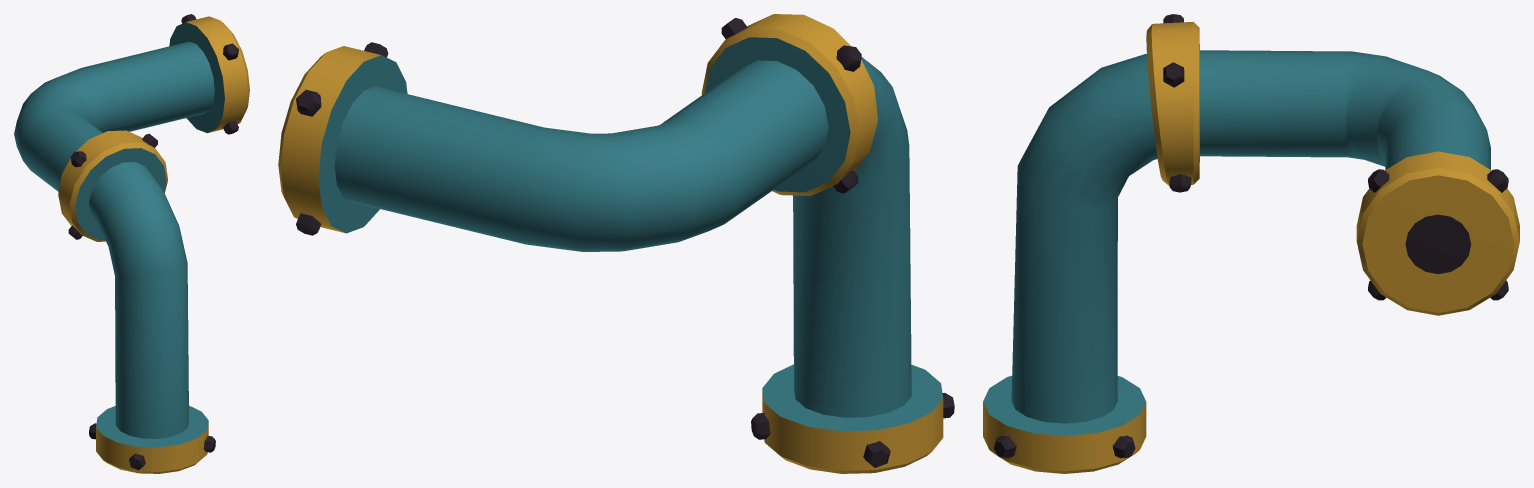
File: PipeRun_11.glb
3 renders of one model, left to right at view 1: azimuth 30°, elevation 25°; view 2: azimuth 150°, elevation 25°; view 3: azimuth 270°, elevation 25°, orthographic. The views are drawn at different scales.
Visible parts, largest first — view 1: PipeRun_11; view 2: PipeRun_11; view 3: PipeRun_11.
Part boxes in pixels (x1,y1,x2,y2): PipeRun_11: [14, 14, 249, 473]; PipeRun_11: [278, 14, 954, 473]; PipeRun_11: [983, 14, 1519, 473].
Bounding box in the file's own units: 2.77 × 3.04 × 3.58.
